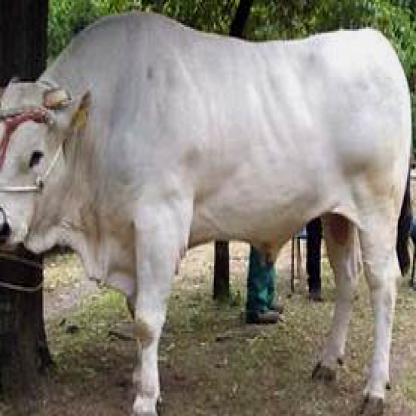cow: (1, 6, 414, 414)
